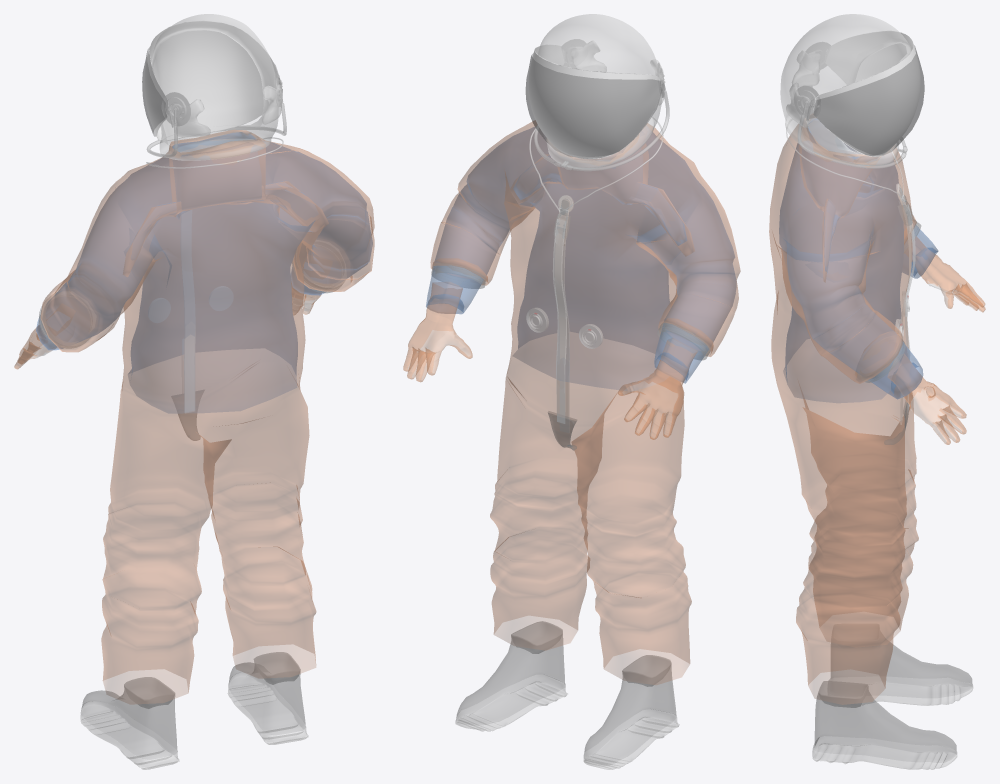
File: Advanced Crew Escape Suit.glb
3 views of the same model, side by side, from view 1: azimuth 30°, elevation 25°; view 2: azimuth 150°, elevation 25°; view 3: azimuth 270°, elevation 25° (orthographic). The views are drawn at different scales.
Visible parts, largest first — view 1: Advanced Crew Escape Suit; view 2: Advanced Crew Escape Suit; view 3: Advanced Crew Escape Suit.
Boxes of the visible parts, x1=… form: Advanced Crew Escape Suit: x1=14, y1=14, x2=374, y2=769; Advanced Crew Escape Suit: x1=403, y1=14, x2=740, y2=769; Advanced Crew Escape Suit: x1=769, y1=14, x2=985, y2=769.
Bounding box in the file's own units: 0.8871 × 2 × 0.5549.
